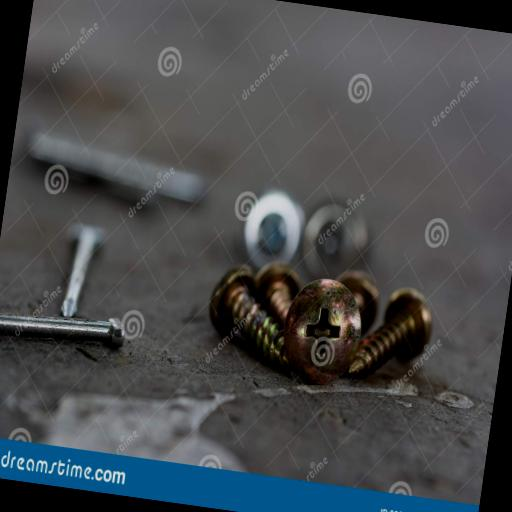Phillips: (276, 270, 367, 393)
